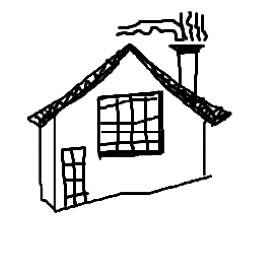closed_window: (94, 88, 168, 162)
door: (60, 140, 92, 215)
shaded_roof: (18, 38, 238, 124)
smoking_chimney: (110, 3, 214, 100)
wall: (36, 93, 214, 218)
